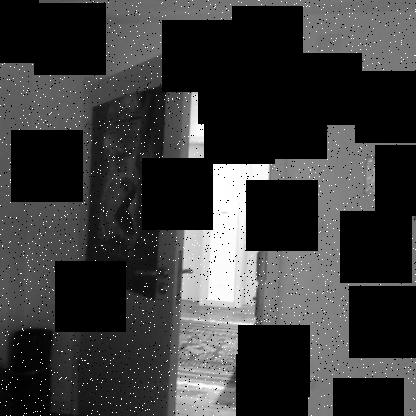Porte: (67, 42, 293, 415)
